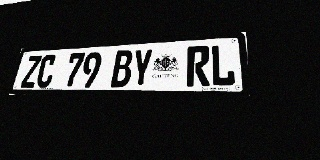7: (63, 53, 85, 88)
9: (80, 52, 103, 87)
B: (110, 50, 133, 87)
C: (35, 54, 57, 88)
L: (210, 44, 236, 86)
R: (186, 45, 210, 86)
Y: (130, 49, 153, 87)
Z: (20, 55, 42, 88)
